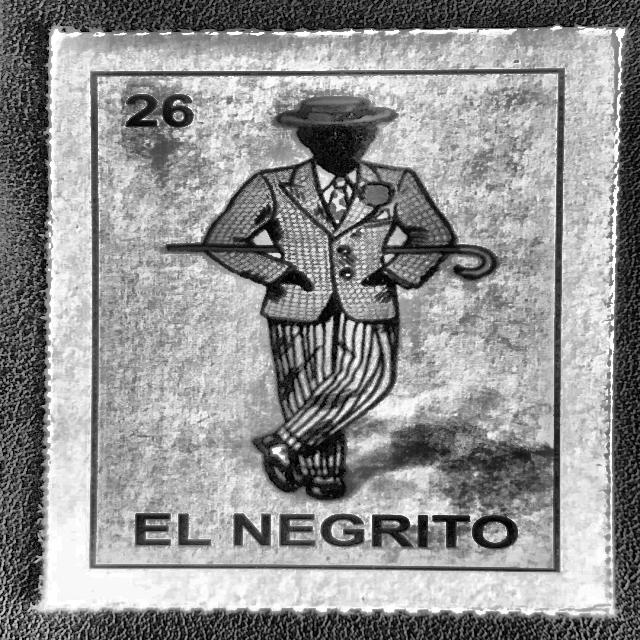El Negrito: (71, 45, 594, 602)
